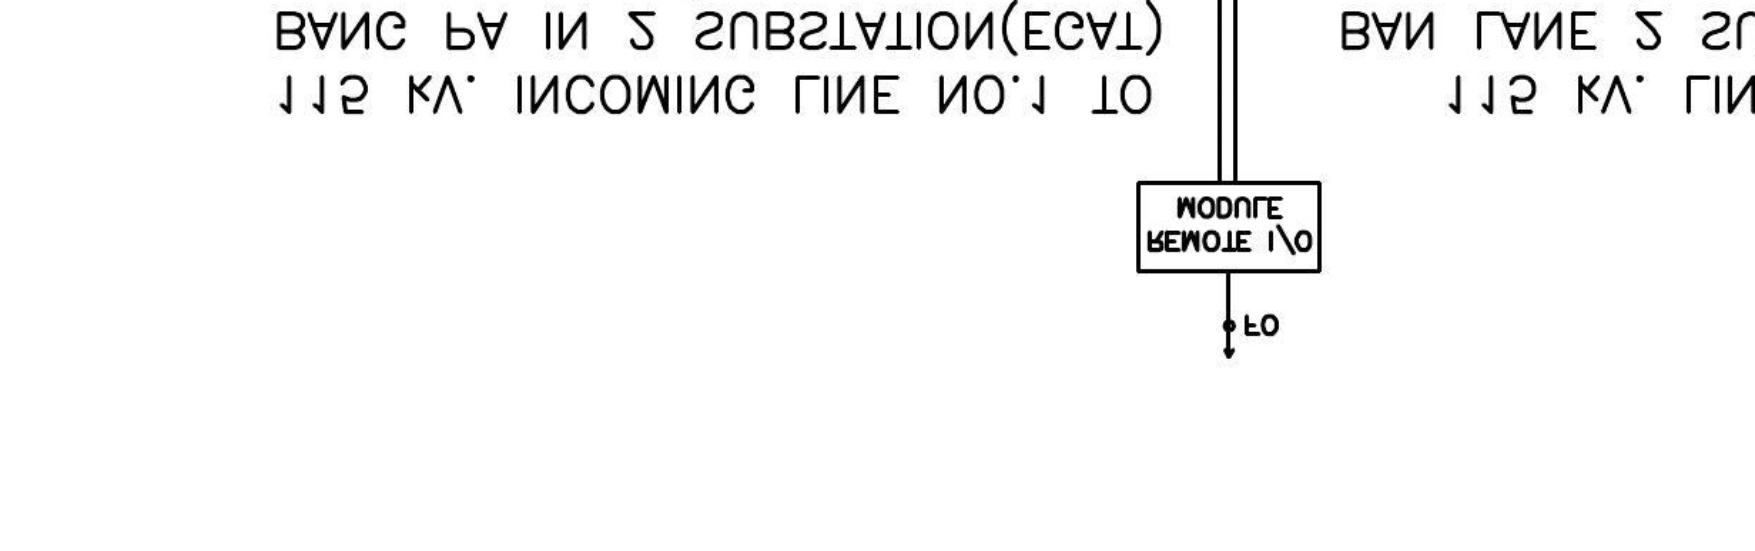remote_io_module: (1135, 180, 1322, 273)
